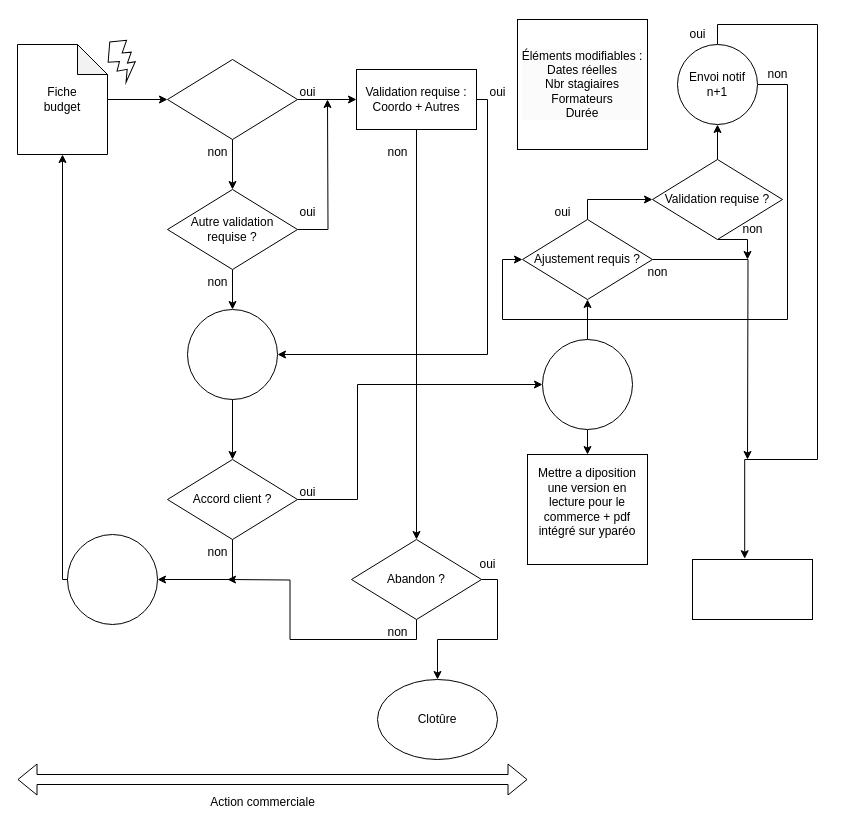
Image size: 843x835. Some labels were removed from this diagram. The shapes that lost their labels are listed below. From the top down, each one's box as (x1, y1, x2, y2) in pixels, then its label:
(166, 58, 298, 140): Supérieur à 10k ?
(186, 308, 278, 400): Proposition client statut = en attente de décision
(542, 338, 632, 430): Passage en production
(66, 534, 158, 624): Adapter l'offre
(692, 558, 812, 620): Réalisation de l'action de formation
